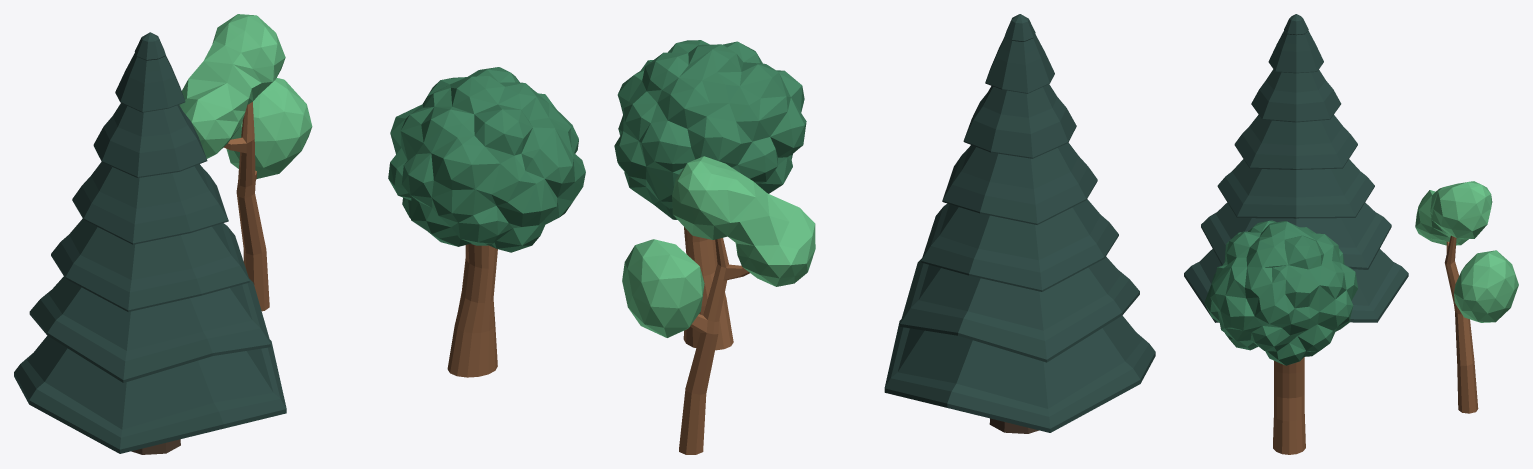
Rendered from SM_tree_mix_1.fbx.
3 renders of one model, left to right at view 1: azimuth 30°, elevation 25°; view 2: azimuth 150°, elevation 25°; view 3: azimuth 270°, elevation 25°, orthographic. The views are drawn at different scales.
Parts seen in each view (by area): view 1: SM_tree_mix1; view 2: SM_tree_mix1; view 3: SM_tree_mix1.
Part boxes in pixels (left/top/right/bottom): SM_tree_mix1: left=14, top=14, right=585, bottom=454; SM_tree_mix1: left=614, top=14, right=1155, bottom=454; SM_tree_mix1: left=1184, top=14, right=1518, bottom=454.
Bounding box in the file's own units: 9.79 × 7.21 × 6.99.
